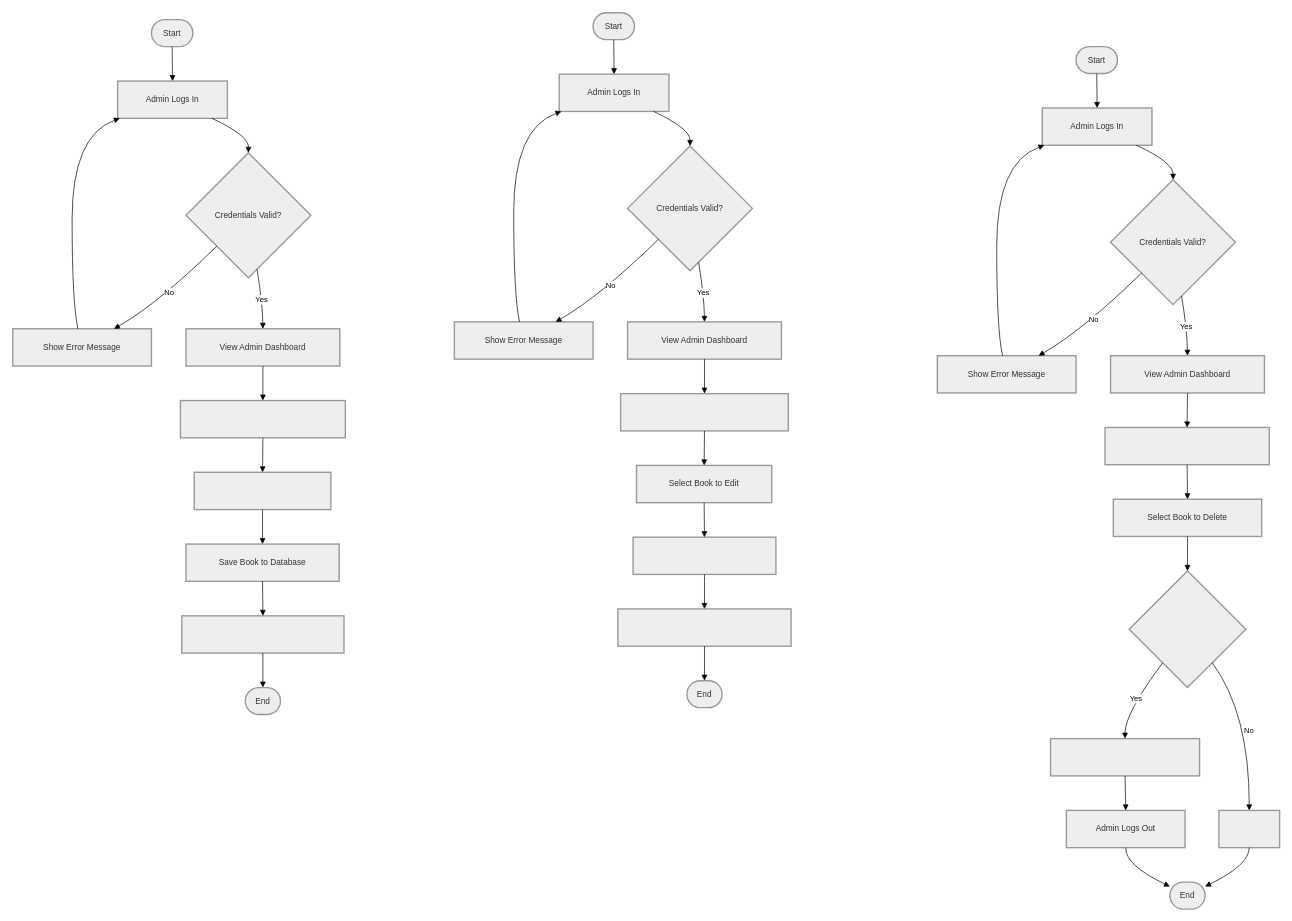
Image size: 1292x921. Some labels were removed from this diagram. Each missing label, with the centre of its shape:
"Book Added Successfully" goes at (262,634).
"Book Updated Successfully" goes at (704,627).
"Confirm Delete?" goes at (1187,629).
"Delete from Database" goes at (1124,757).
"Exit" goes at (1249,828).
"Fill New Book Form" goes at (262,490).
"Modify Fields & Save" goes at (704,555).
"Select Operation: add" goes at (262,419).
"Select Operation: Delete" goes at (1187,445).
"Select Operation: Update" goes at (704,412).
